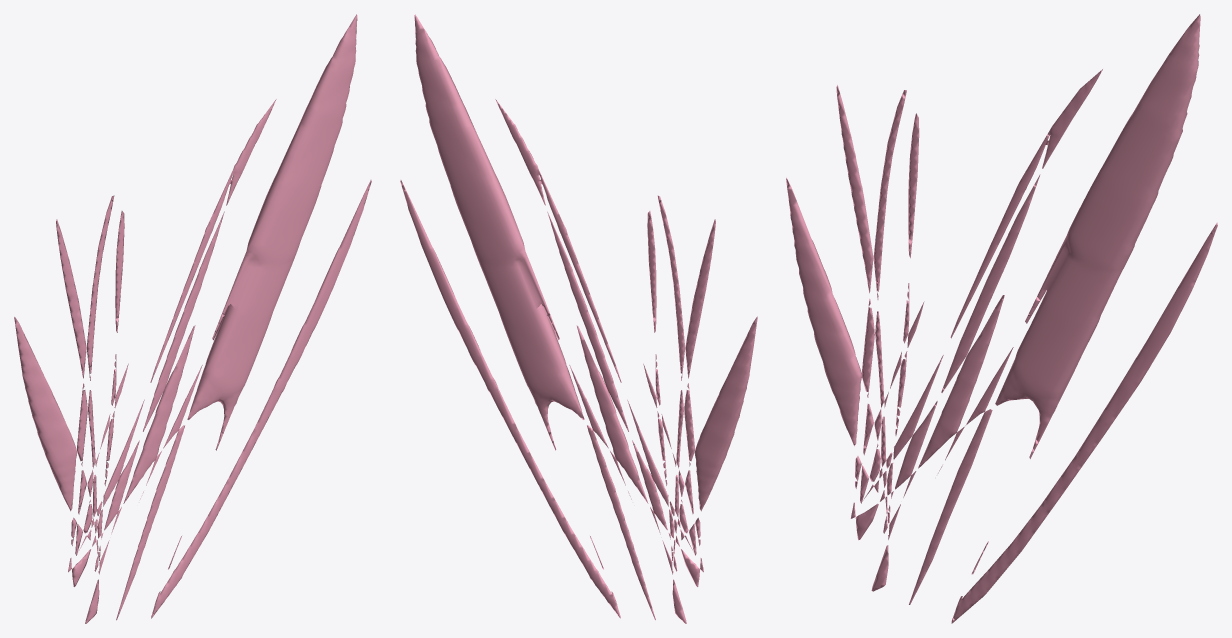
File: Splat_0.fbx
3 renders of one model, left to right at view 1: azimuth 30°, elevation 25°; view 2: azimuth 150°, elevation 25°; view 3: azimuth 330°, elevation 25°, orthographic. The views are drawn at different scales.
Visible parts, largest first — view 1: root; view 2: root; view 3: root.
Boxes of the visible parts, <box> form: root: <box>14,14,371,623</box>; root: <box>400,14,757,623</box>; root: <box>786,14,1217,623</box>.
Bounding box in the file's own units: 0.1985 × 0.2945 × 0.0128.
